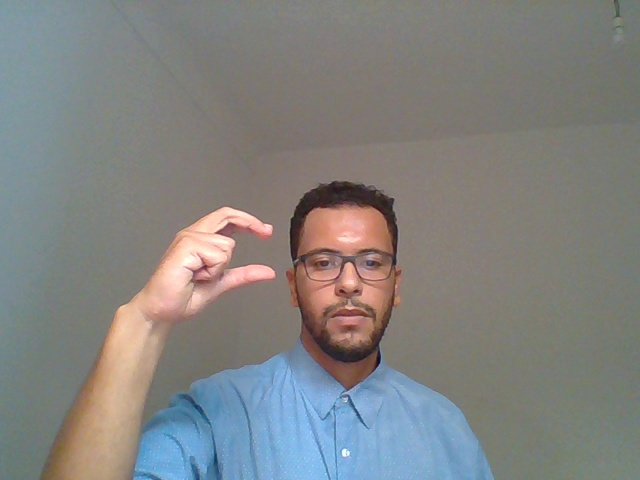no: (94, 170, 281, 432)
